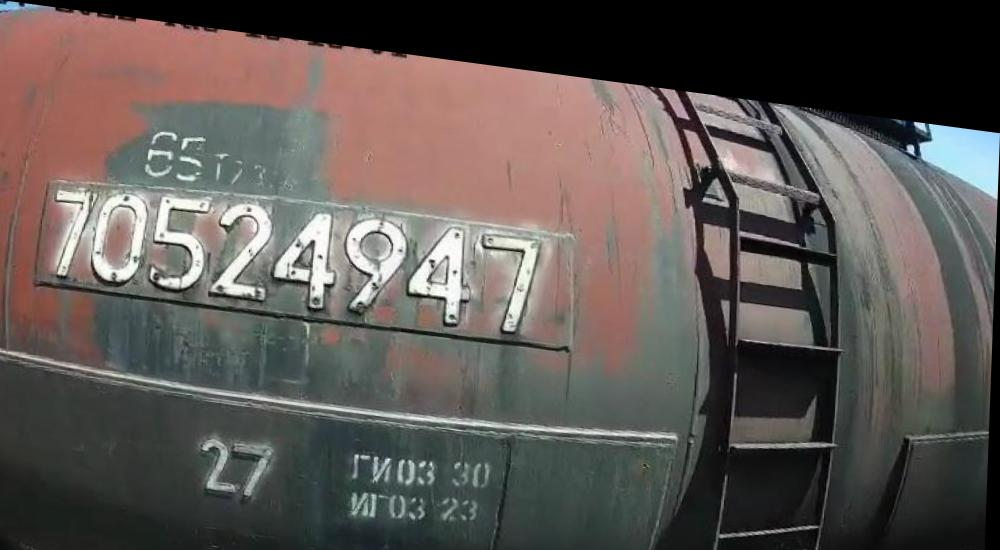Wagon-number: (47, 166, 547, 332)
